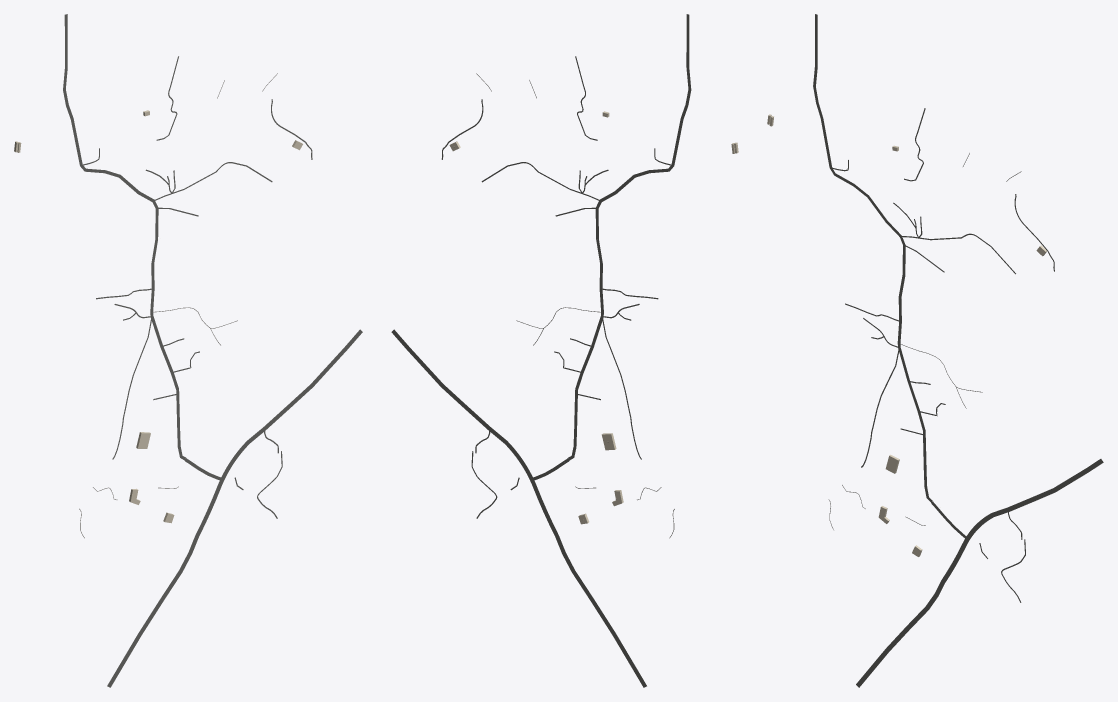
File: historic-palestine-09_27_3513_3219.glb
The picture shows the model from 3 angles, left to right: view 1: azimuth 30°, elevation 25°; view 2: azimuth 150°, elevation 25°; view 3: azimuth 330°, elevation 25°; orthographic projection. The views are drawn at different scales.
Parts seen in each view (by area): view 1: Road 55, Road Kafr Sur - Hajja.001; view 2: Road 55, Road Kafr Sur - Hajja.001; view 3: Road 55, Road Kafr Sur - Hajja.001.
Part boxes in pixels (left/top/right/bottom): Road 55: left=107, top=329, right=362, bottom=687; Road Kafr Sur - Hajja.001: left=63, top=14, right=185, bottom=459; Road 55: left=391, top=329, right=646, bottom=687; Road Kafr Sur - Hajja.001: left=568, top=14, right=691, bottom=459; Road 55: left=856, top=459, right=1103, bottom=687; Road Kafr Sur - Hajja.001: left=813, top=14, right=932, bottom=501.
Size of the model in its own units: 958 by 1804 by 9.09.
